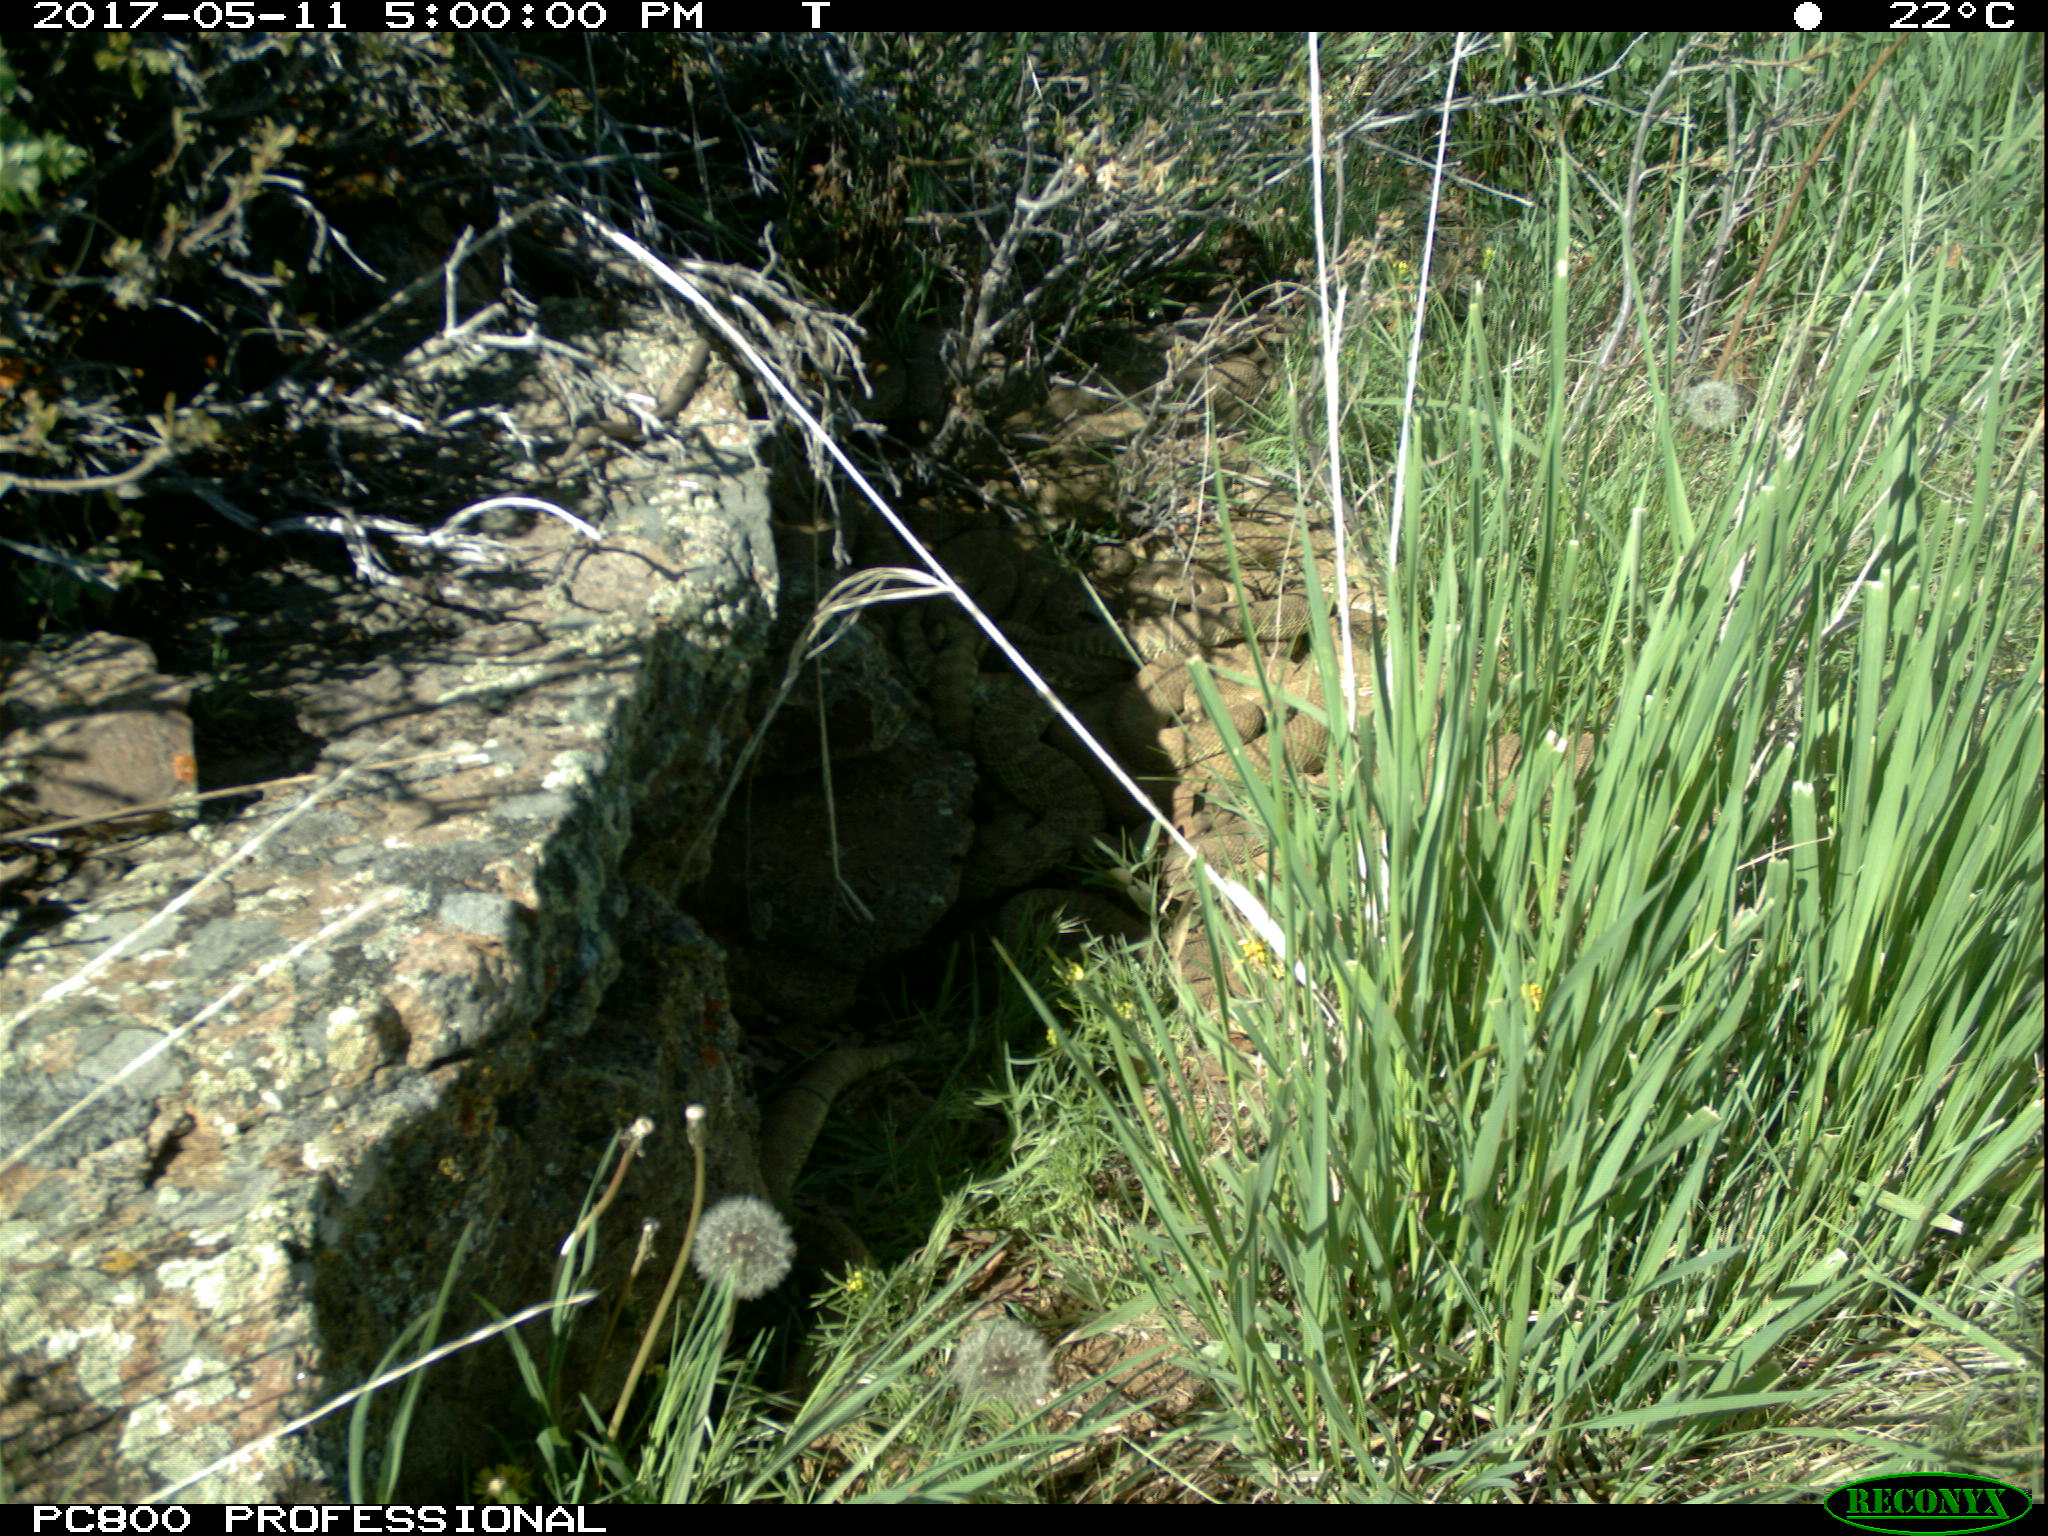snake: (1122, 649, 1348, 794), (1045, 557, 1350, 650), (964, 700, 1105, 902), (760, 1037, 930, 1192)
